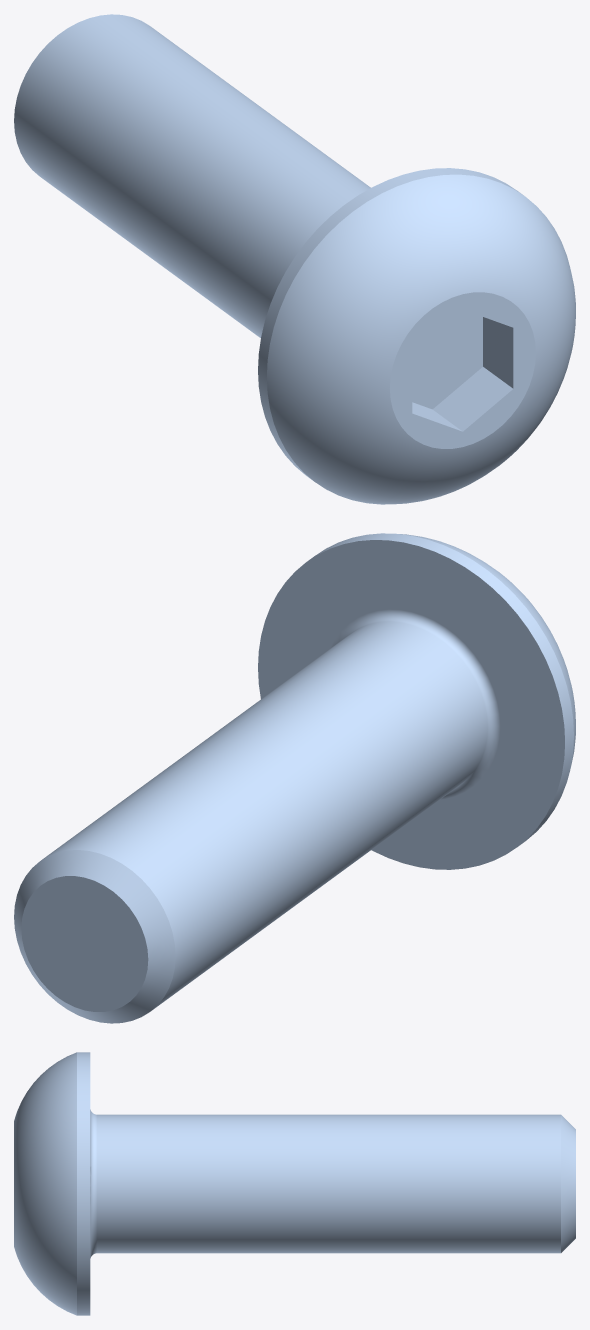
The model's file is colored.step.glb.
3 views of the same model, one above another, from view 1: azimuth 30°, elevation 25°; view 2: azimuth 150°, elevation 25°; view 3: azimuth 270°, elevation 25° (orthographic). The views are drawn at different scales.
Visible parts, largest first — view 1: half_round_screw001; view 2: half_round_screw001; view 3: half_round_screw001.
Boxes of the visible parts, left/top/right/bottom form: half_round_screw001: left=14, top=14, right=575, bottom=504; half_round_screw001: left=14, top=533, right=575, bottom=1023; half_round_screw001: left=14, top=1052, right=575, bottom=1315.
Size of the model in its own units: 0.0076 by 0.00759 by 0.0162.
